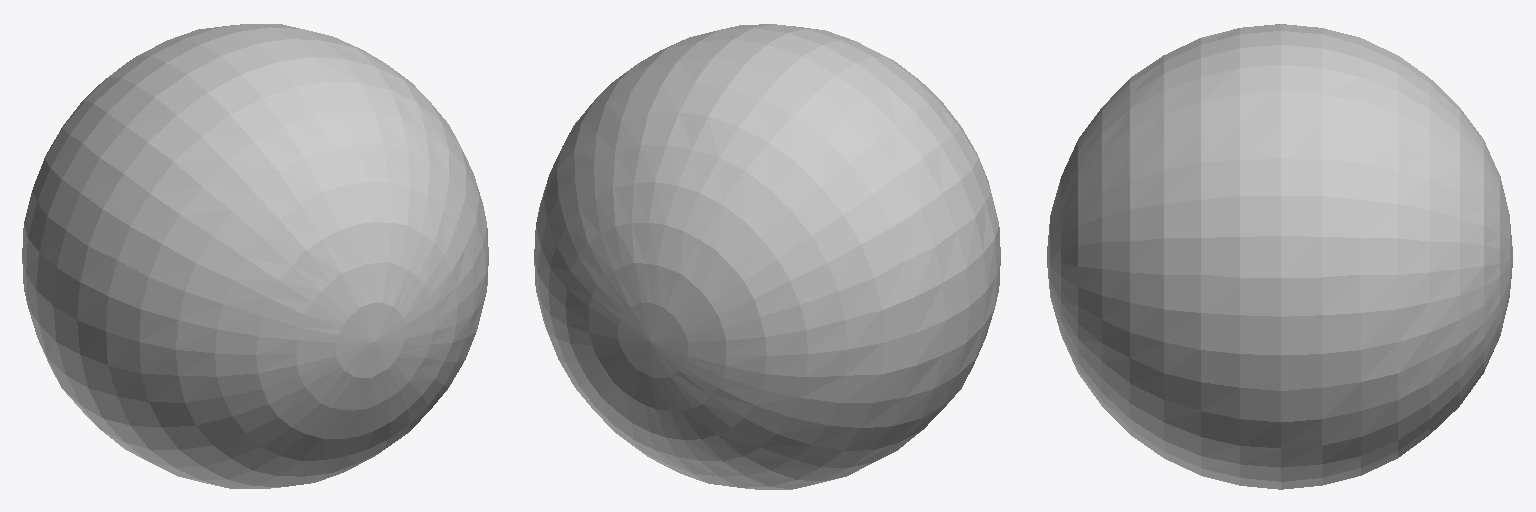
The model's file is Ojo_Derecho.obj.
3 renders of one model, left to right at view 1: azimuth 30°, elevation 25°; view 2: azimuth 150°, elevation 25°; view 3: azimuth 270°, elevation 25°, orthographic.
Parts seen in each view (by area): view 1: obj_0; view 2: obj_0; view 3: obj_0.
Part boxes in pixels (x1,y1,x2,y2): obj_0: (22, 24, 488, 488); obj_0: (534, 24, 1000, 489); obj_0: (1047, 24, 1512, 489).
Bounding box in the file's own units: 0.251 × 0.251 × 0.251.